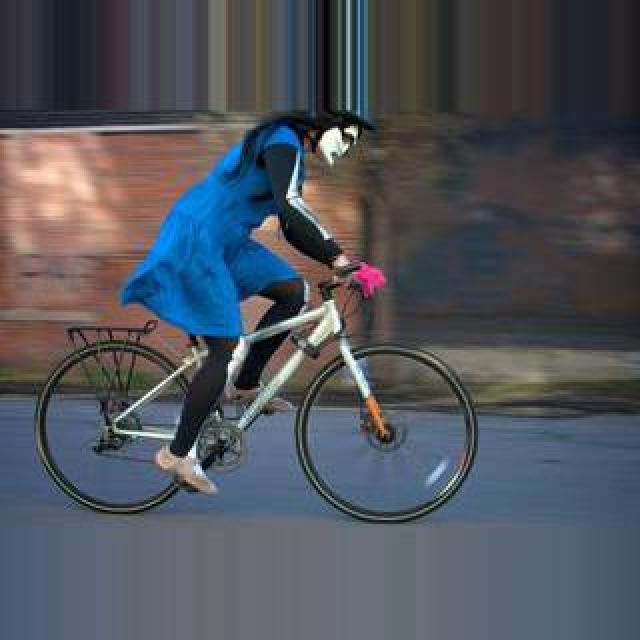MC-Bike: (116, 108, 384, 498)
Person: (23, 268, 465, 522)
